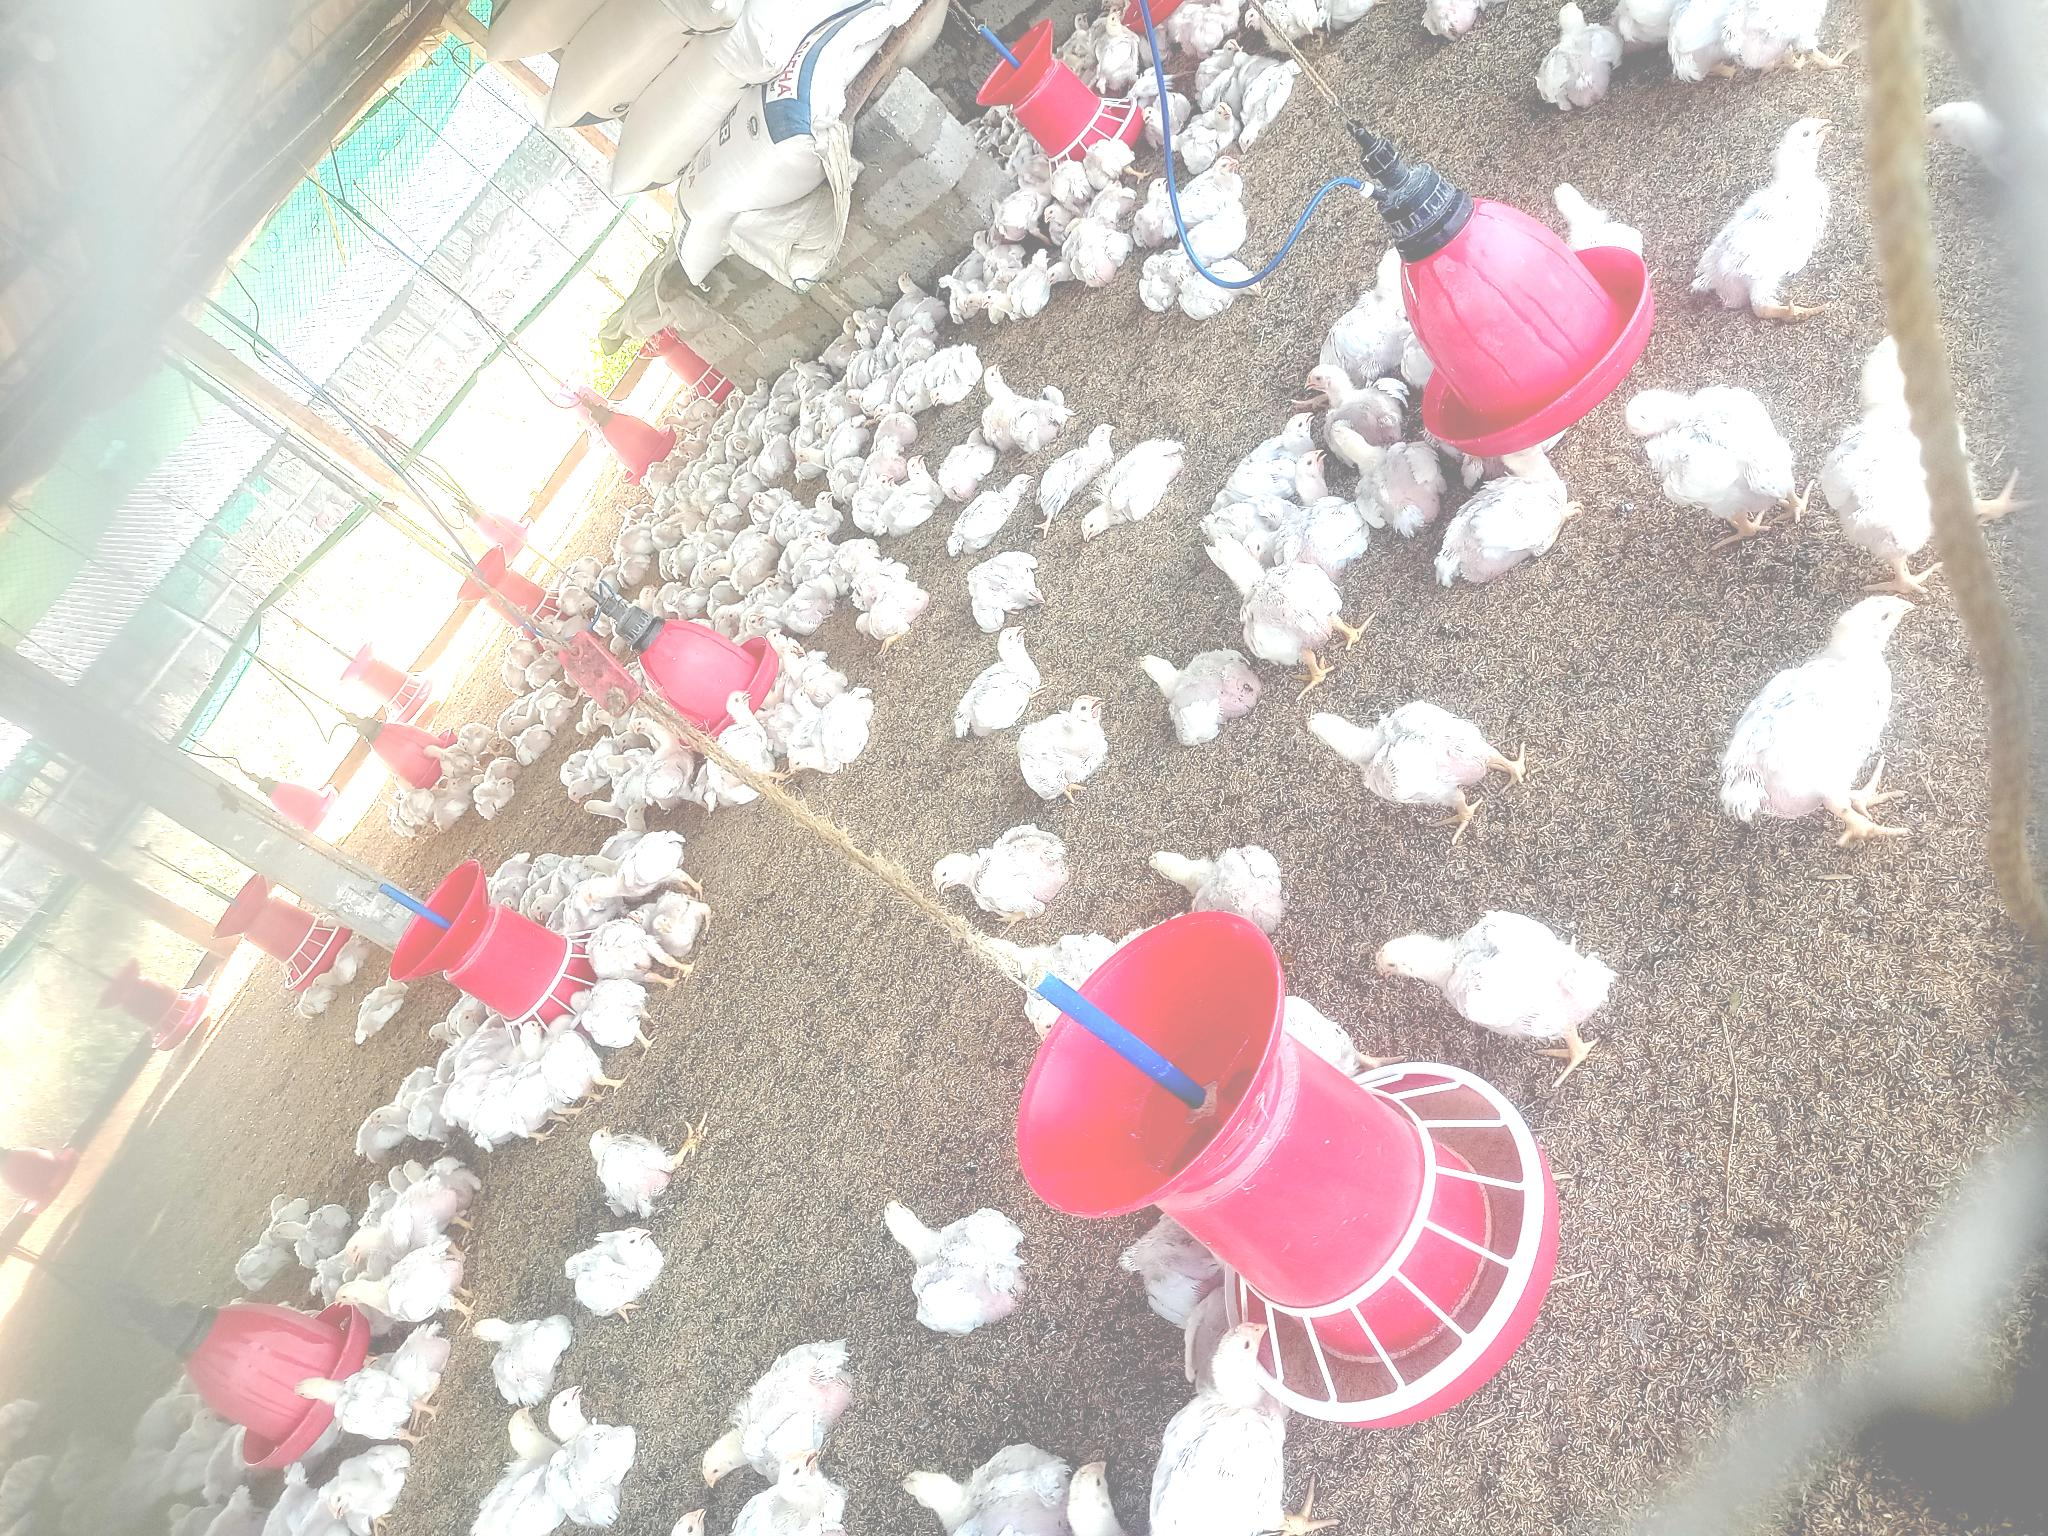Pollos: (1722, 597, 1924, 841), (1150, 1320, 1292, 1536), (1376, 912, 1609, 1042), (1706, 118, 1842, 313), (701, 1336, 848, 1484), (1629, 390, 1796, 515), (1301, 705, 1513, 803), (1432, 466, 1580, 603), (887, 1199, 1029, 1326), (1205, 537, 1351, 658), (930, 824, 1074, 916), (1329, 428, 1443, 534), (552, 1386, 639, 1515), (302, 1363, 426, 1452), (1016, 695, 1116, 805), (1137, 650, 1258, 736), (1148, 845, 1293, 916), (1530, 3, 1624, 111), (342, 1241, 468, 1318), (1282, 445, 1356, 558), (1551, 179, 1661, 252), (316, 1446, 414, 1526), (789, 695, 877, 784), (474, 1312, 572, 1391), (948, 473, 1040, 557), (577, 1225, 664, 1312), (398, 1158, 482, 1246), (585, 839, 692, 907), (1079, 453, 1168, 532), (1229, 411, 1314, 492), (971, 624, 1037, 728), (485, 1021, 547, 1128), (1238, 60, 1305, 157), (751, 1455, 830, 1536), (593, 1125, 669, 1200), (1305, 363, 1397, 424), (972, 547, 1043, 626), (876, 458, 942, 537), (979, 257, 1055, 324), (268, 1208, 345, 1270), (856, 589, 937, 645), (576, 979, 651, 1039), (1182, 157, 1250, 219), (1097, 8, 1147, 90), (434, 1008, 484, 1087), (795, 416, 864, 473), (653, 895, 719, 950), (977, 365, 1026, 437), (1071, 221, 1119, 292), (927, 345, 977, 408), (574, 736, 614, 808), (1179, 102, 1234, 155), (705, 536, 771, 578), (1140, 181, 1180, 239), (874, 403, 918, 457), (792, 531, 834, 584), (534, 868, 574, 920), (477, 776, 518, 824), (801, 487, 840, 537), (722, 689, 764, 731), (751, 484, 790, 528), (513, 726, 555, 765)
